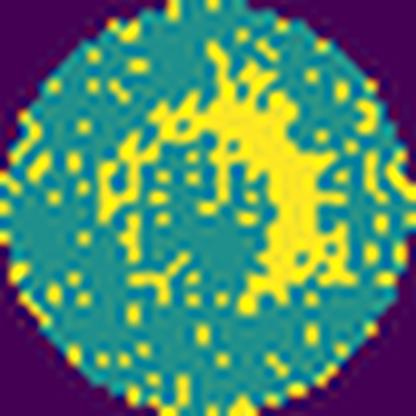Donut: (84, 38, 356, 315)
